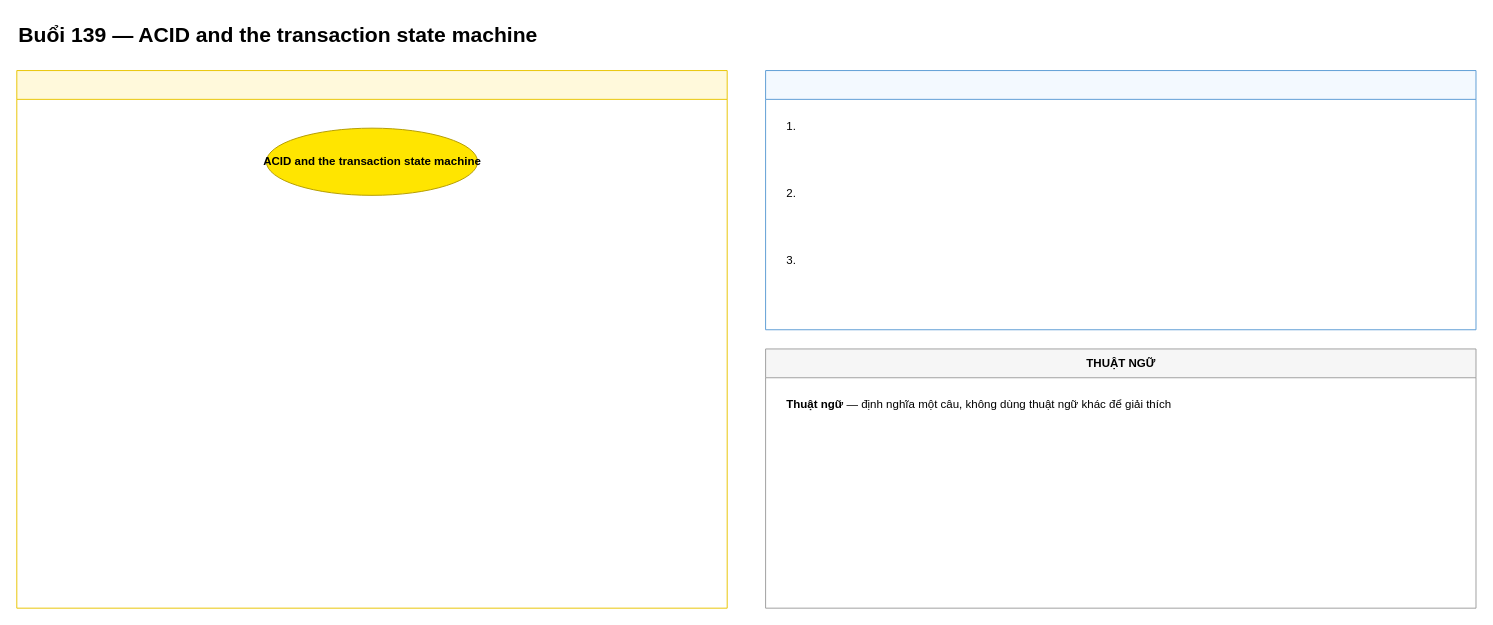
This 1493x625 diagram has some shape labels left out. Here are the shapes that lost their labels. From the top down, the box of each, then its label:
(765, 70, 1476, 330): KEY TAKEAWAY — ba điều phải nhớ
(16, 70, 727, 608): MINDMAP
